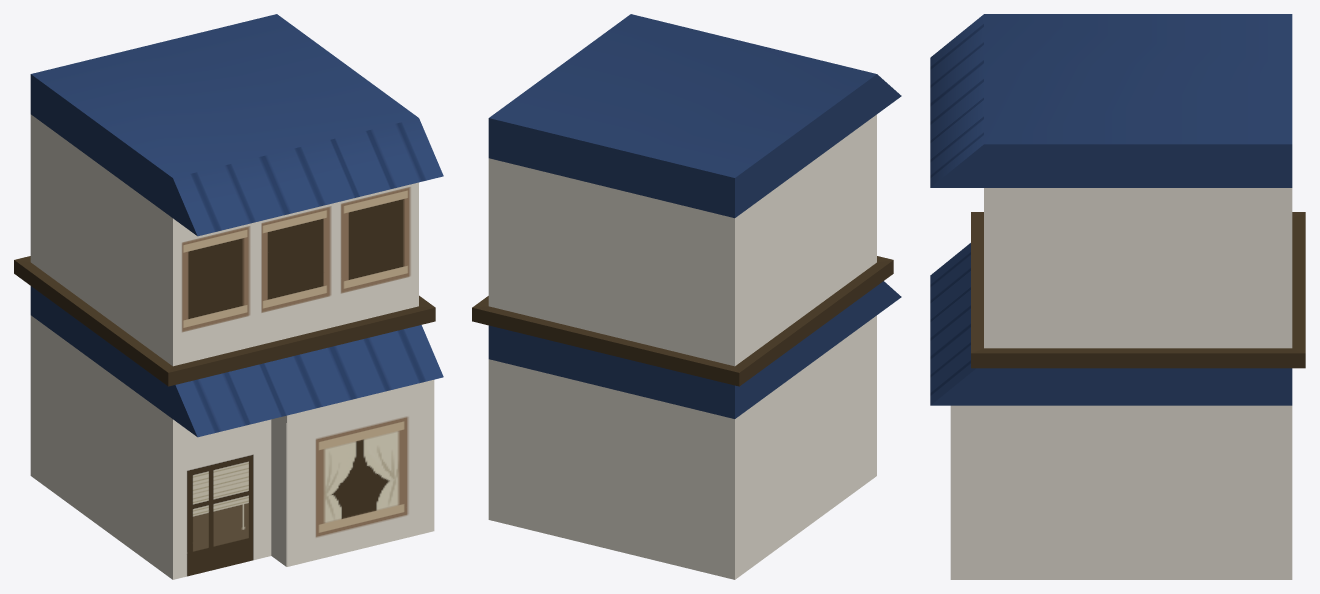
Rendered from building3.fbx.
3 views of the same model, side by side, from view 1: azimuth 30°, elevation 25°; view 2: azimuth 150°, elevation 25°; view 3: azimuth 270°, elevation 25° (orthographic). The views are drawn at different scales.
Parts seen in each view (by area): view 1: building3; view 2: building3; view 3: building3.
Boxes of the visible parts, x1,y1,x2,y2 form: building3: (14,14,443,579); building3: (472,14,901,579); building3: (930,14,1305,579).
Bounding box in the file's own units: 473 × 680 × 530.
